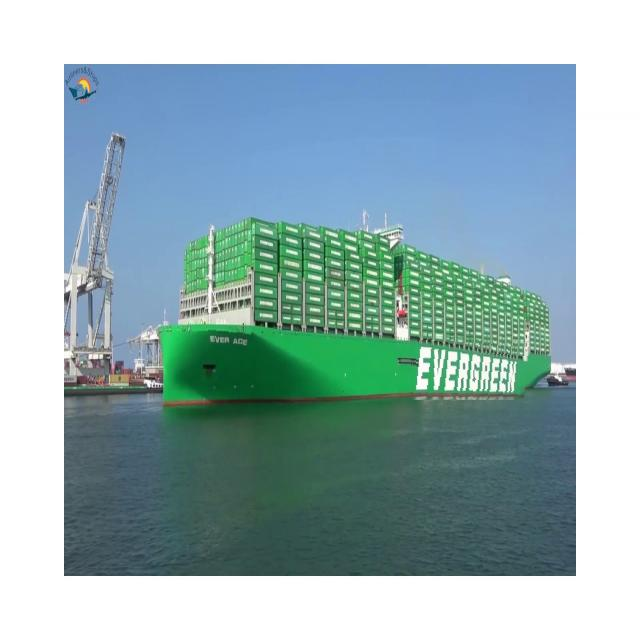OCR: (411, 334, 530, 400), (208, 326, 251, 356)
